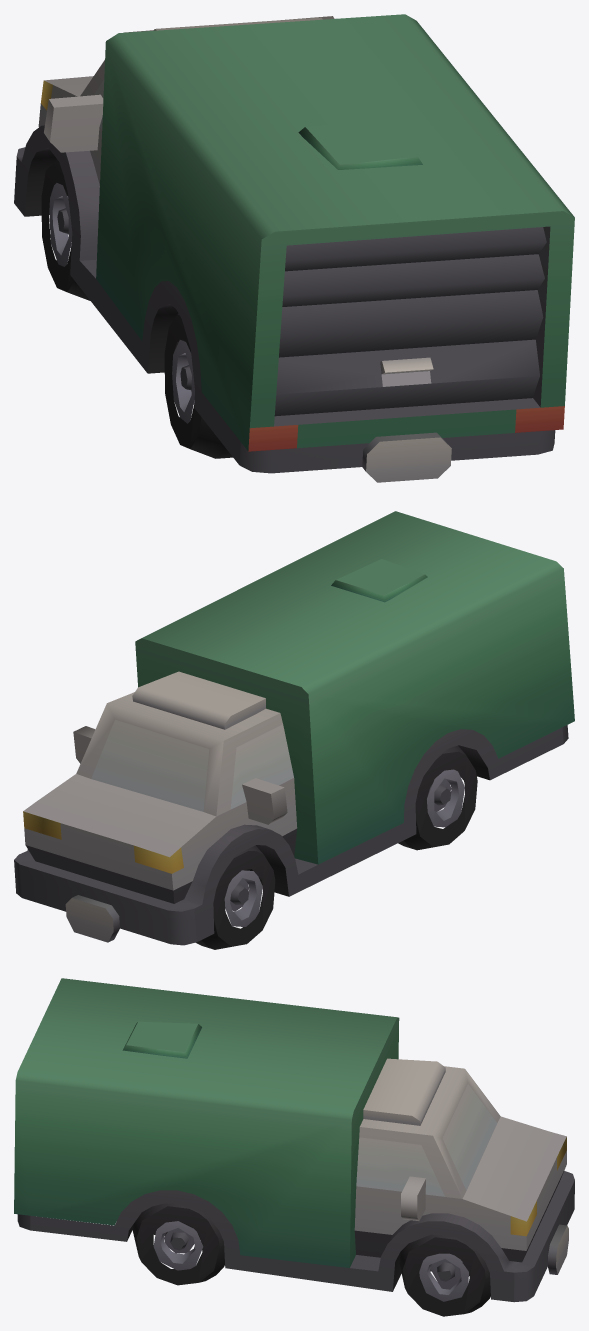
Rendered from wreck_delivery.glb.
3 views of the same model, one above another, from view 1: azimuth 30°, elevation 25°; view 2: azimuth 150°, elevation 25°; view 3: azimuth 270°, elevation 25° (orthographic). The views are drawn at different scales.
Visible parts, largest first — view 1: body_mesh; view 2: body_mesh; view 3: body_mesh.
Part boxes in pixels (x1,y1,x2,y2): body_mesh: (14,14,574,482); body_mesh: (14,511,574,949); body_mesh: (14,978,574,1316).
Bounding box in the file's own units: 2.73 × 2.06 × 4.72.
1 material, 1 textured.
